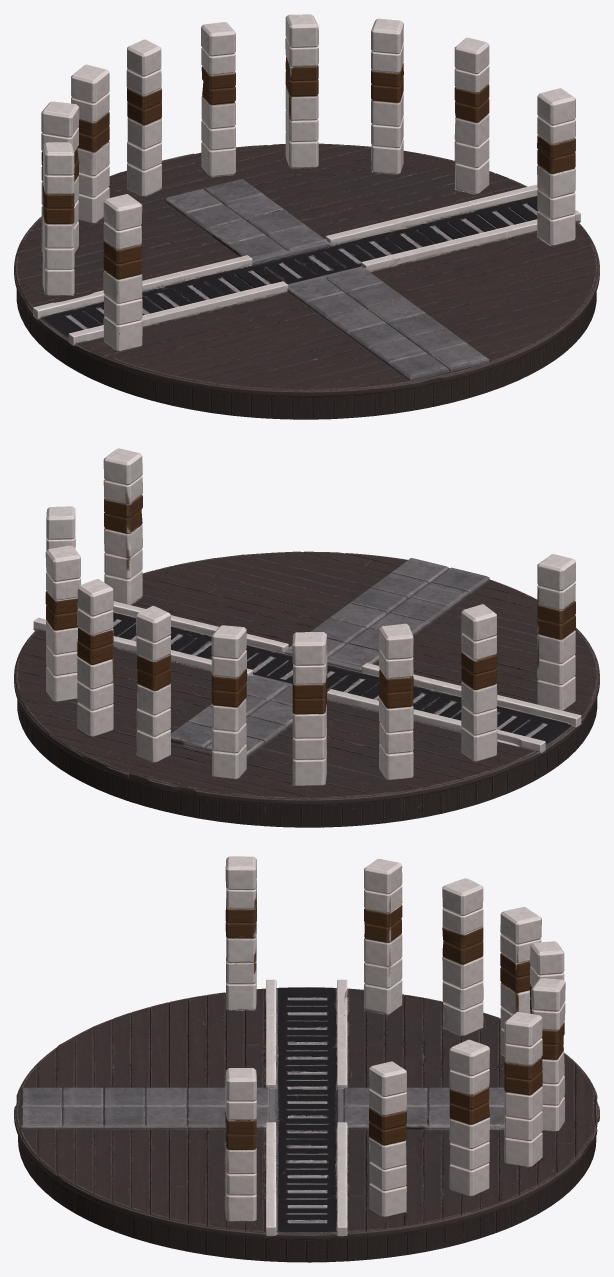
The model's file is Nivel2_RE_El_pulso_nivel_completo.glb.
The picture shows the model from 3 angles, top to bottom: view 1: azimuth 30°, elevation 25°; view 2: azimuth 150°, elevation 25°; view 3: azimuth 270°, elevation 25°; orthographic projection.
Visible parts, largest first — view 1: Mesh_0; view 2: Mesh_0; view 3: Mesh_0.
Boxes of the visible parts, x1,y1,x2,y2 form: Mesh_0: (14,14,599,419); Mesh_0: (14,448,599,827); Mesh_0: (14,856,599,1262).
Size of the model in its own units: 1.9 by 0.6179 by 1.89.
1 material, 1 textured.
